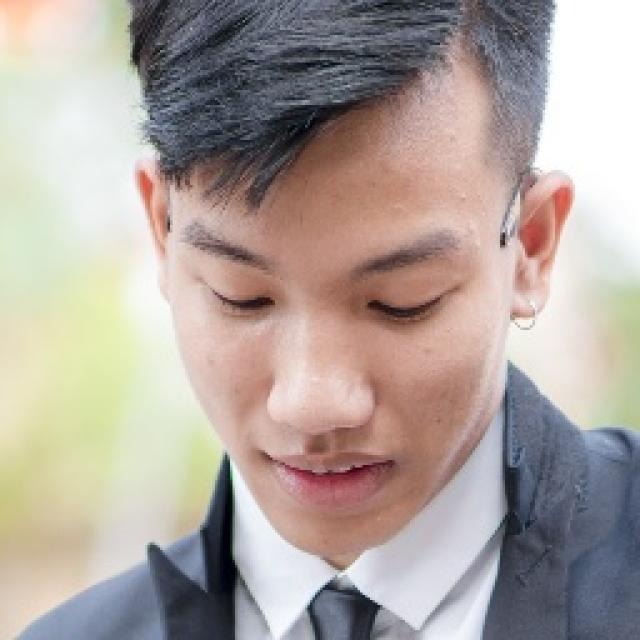earlobe: (506, 167, 576, 322), (131, 158, 171, 304)
